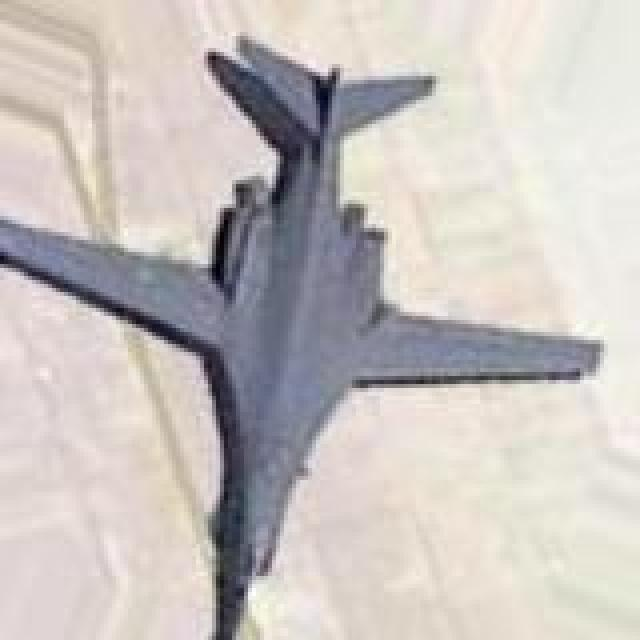B-1_TopDown: (0, 28, 604, 636)
